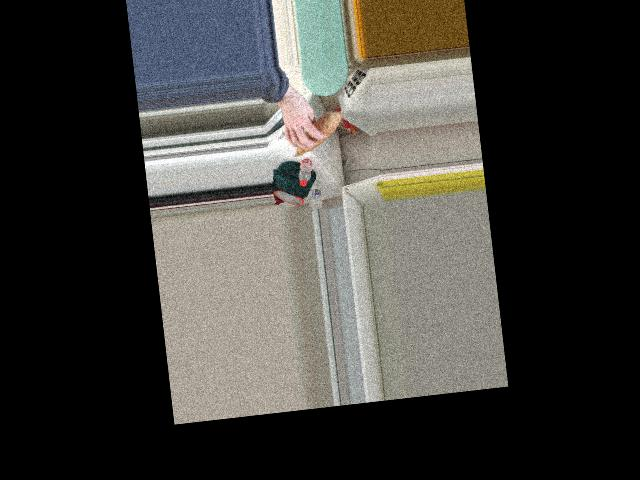sweet_potato: (285, 112, 341, 155)
